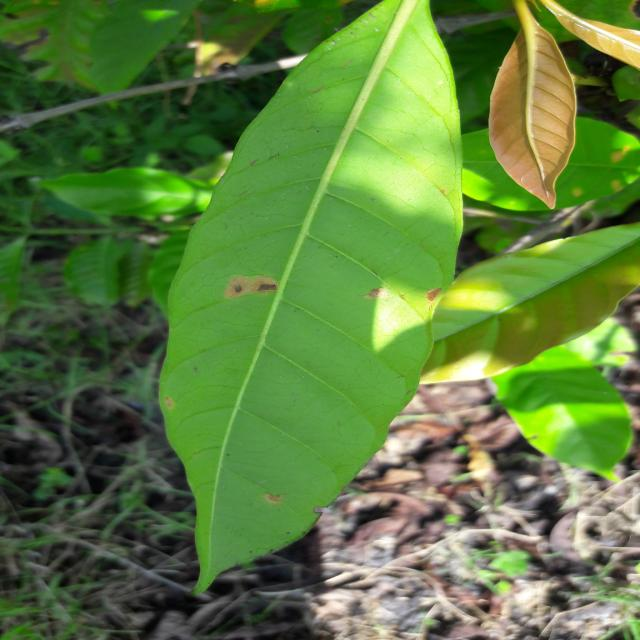Plaga-AranaRoja: (158, 0, 465, 597)
